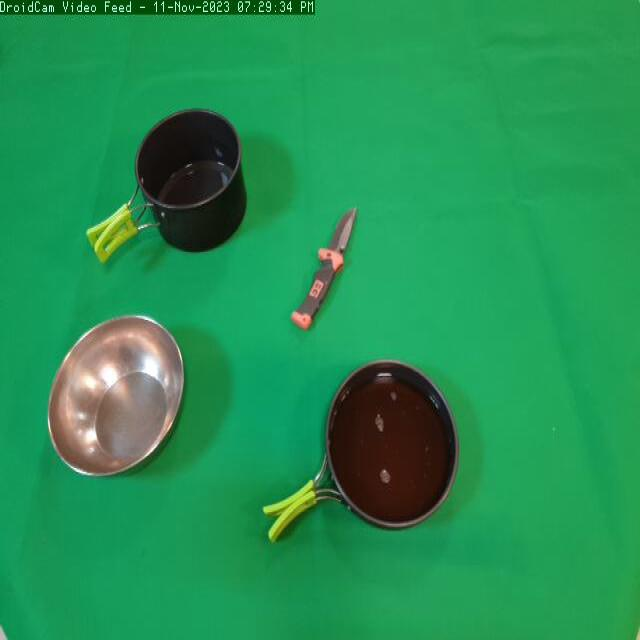bowl: (36, 305, 191, 484)
fullpan: (261, 351, 479, 564)
knife: (289, 200, 367, 338)
pot: (81, 107, 252, 276)
